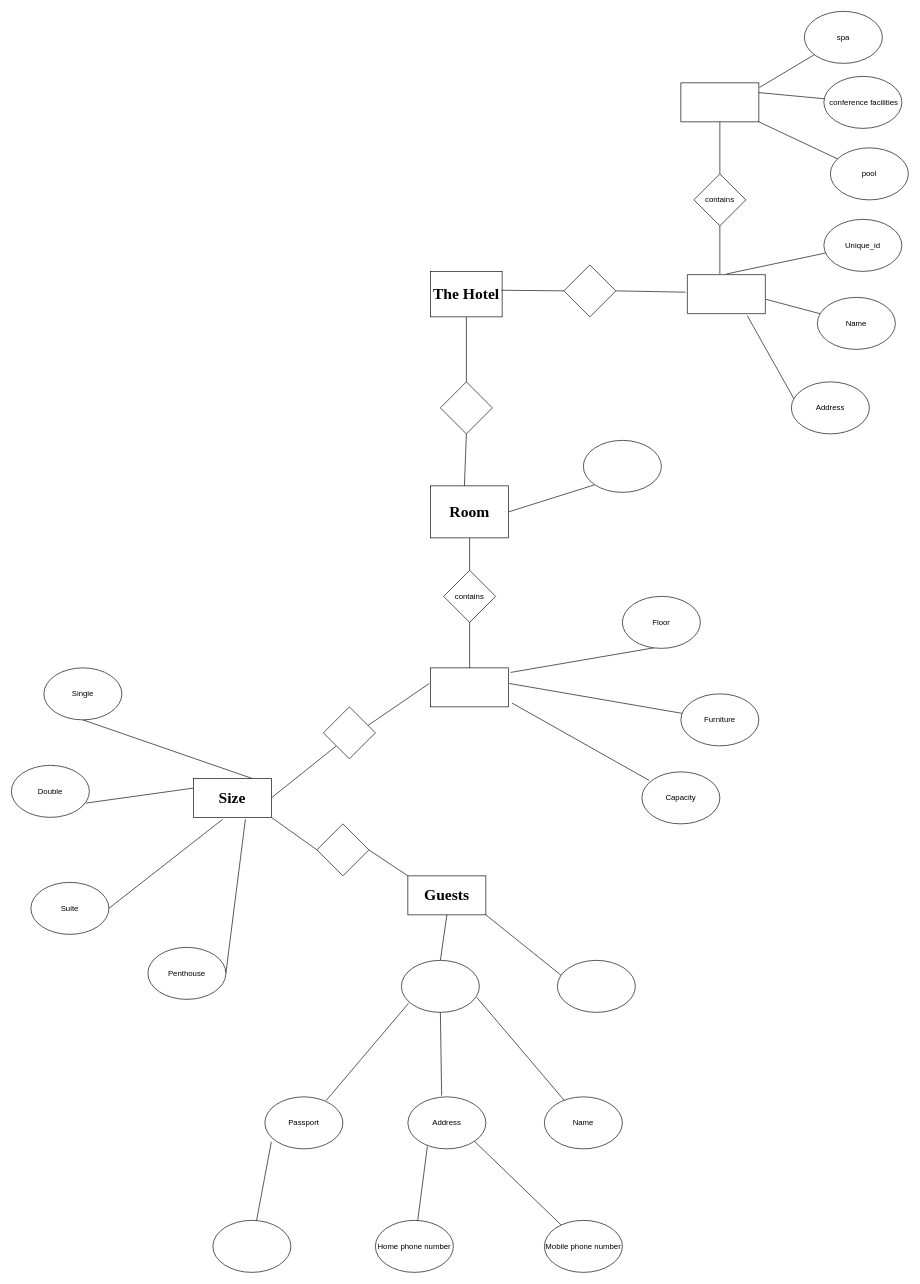
Some shapes in this 920 by 1284 pixel diagram are drawn without their labels. Here are the shapes that lost their labels. From the top down, the box of each, then its label:
(680, 82, 759, 122): Interior
(563, 264, 616, 317): has
(687, 274, 765, 314): rating
(440, 381, 492, 434): recommends
(583, 440, 661, 492): Price
(430, 667, 509, 707): Room number
(323, 706, 375, 759): differs in
(316, 823, 369, 876): for the
(401, 960, 479, 1012): Guest_id
(557, 960, 635, 1012): Additional people
(212, 1220, 291, 1272): Driving license
